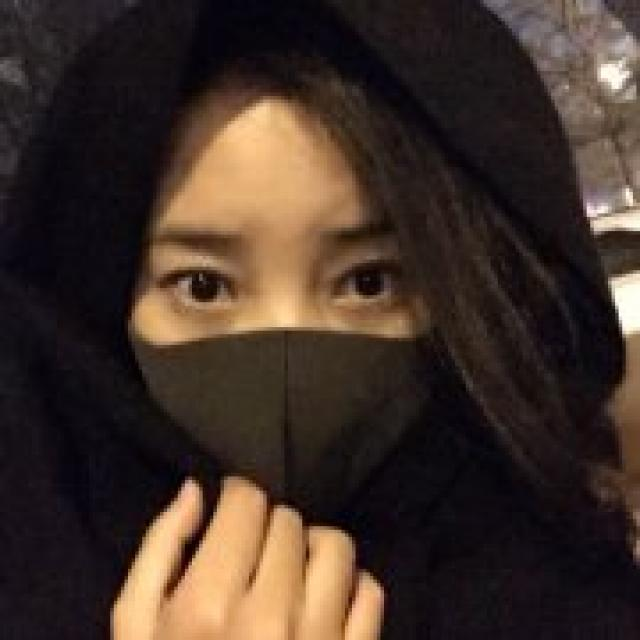mask: (135, 92, 448, 526)
